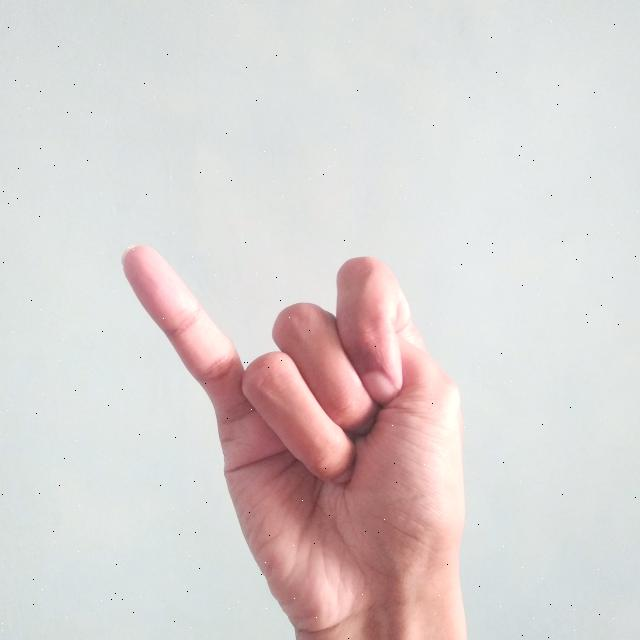I: (115, 238, 482, 640)
